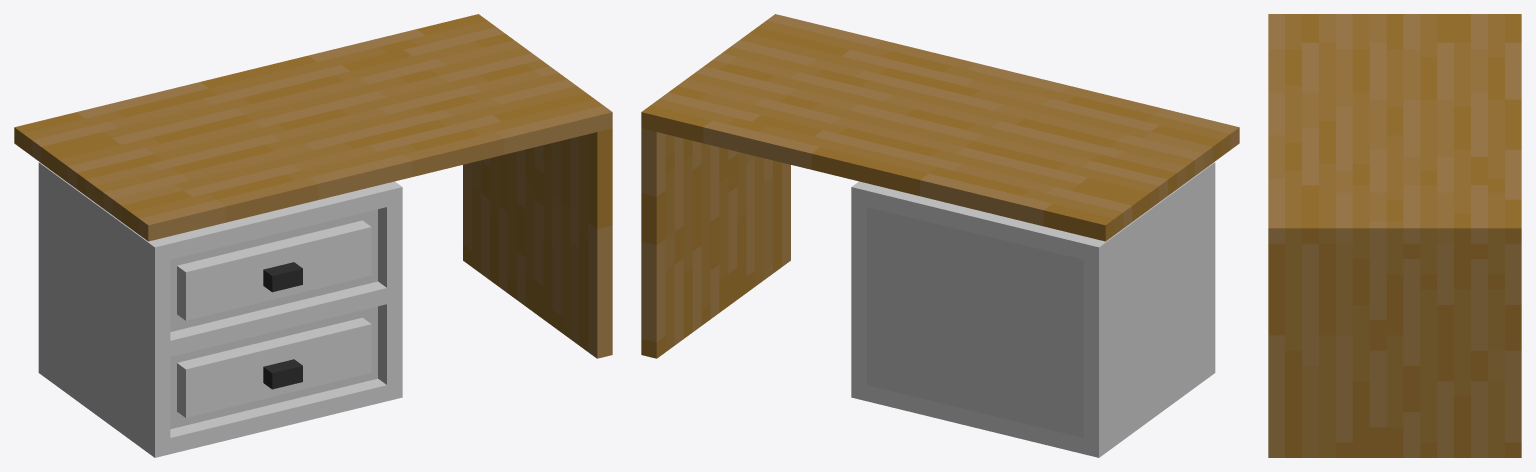
The model's file is school_desk.glb.
The picture shows the model from 3 angles, left to right: view 1: azimuth 30°, elevation 25°; view 2: azimuth 150°, elevation 25°; view 3: azimuth 270°, elevation 25°; orthographic projection. The views are drawn at different scales.
Visible parts, largest first — view 1: Object_2; view 2: Object_2; view 3: Object_2.
Part boxes in pixels (x1=…): Object_2: x1=14, y1=14, x2=612, y2=457; Object_2: x1=641, y1=14, x2=1239, y2=457; Object_2: x1=1268, y1=14, x2=1521, y2=457.
Size of the model in its own units: 3 by 1.5 by 1.5.
1 material, 1 textured.
